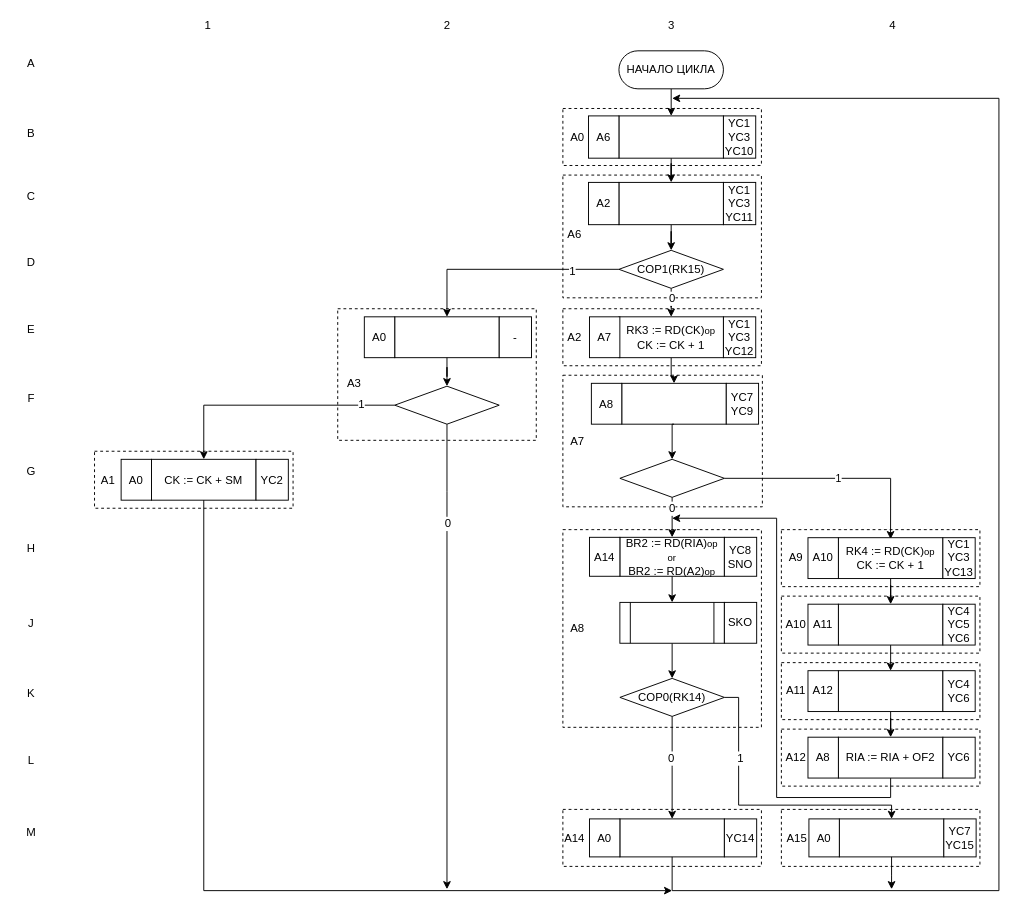
Some shapes in this 1023 by 915 pixel diagram are drawn without their labels. Here are the shapes that lost their labels. From the top down, the centre of each, then its label:
the point at 670,136: RK1 := RD(CK) op CK := CK + 1
the point at 670,203: RK2 := RD(CK) op CK := CK + 1
the point at 446,337: NOP
the point at 446,404: PR || COP0(RK14)
the point at 673,403: BR1 := RD(R1) rp
the point at 671,477: PA2(RK9)
the point at 671,622: Выполнение операции в АЛУ
the point at 890,624: RIA := RD(R2) rp
the point at 890,691: RIA := RD(RIA) op
the point at 671,837: WR(RIA) op := RR or WR(A2) op := RR
the point at 891,837: WR(R1) rp := RR
